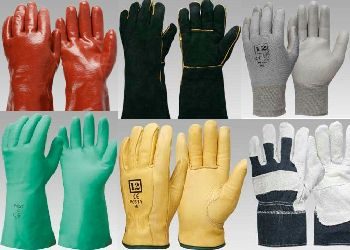gloves: (111, 118, 247, 250), (2, 116, 120, 250), (240, 118, 350, 250), (118, 3, 234, 123), (1, 4, 120, 116), (235, 7, 346, 117)
